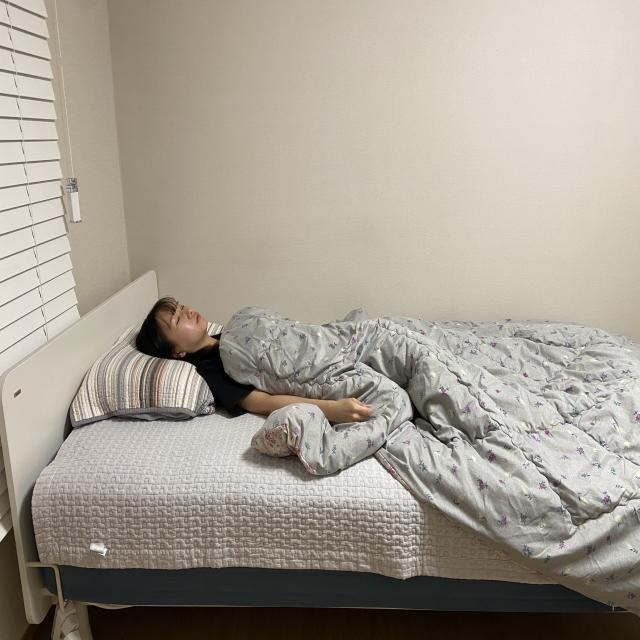sleeping-person: (126, 278, 640, 480)
